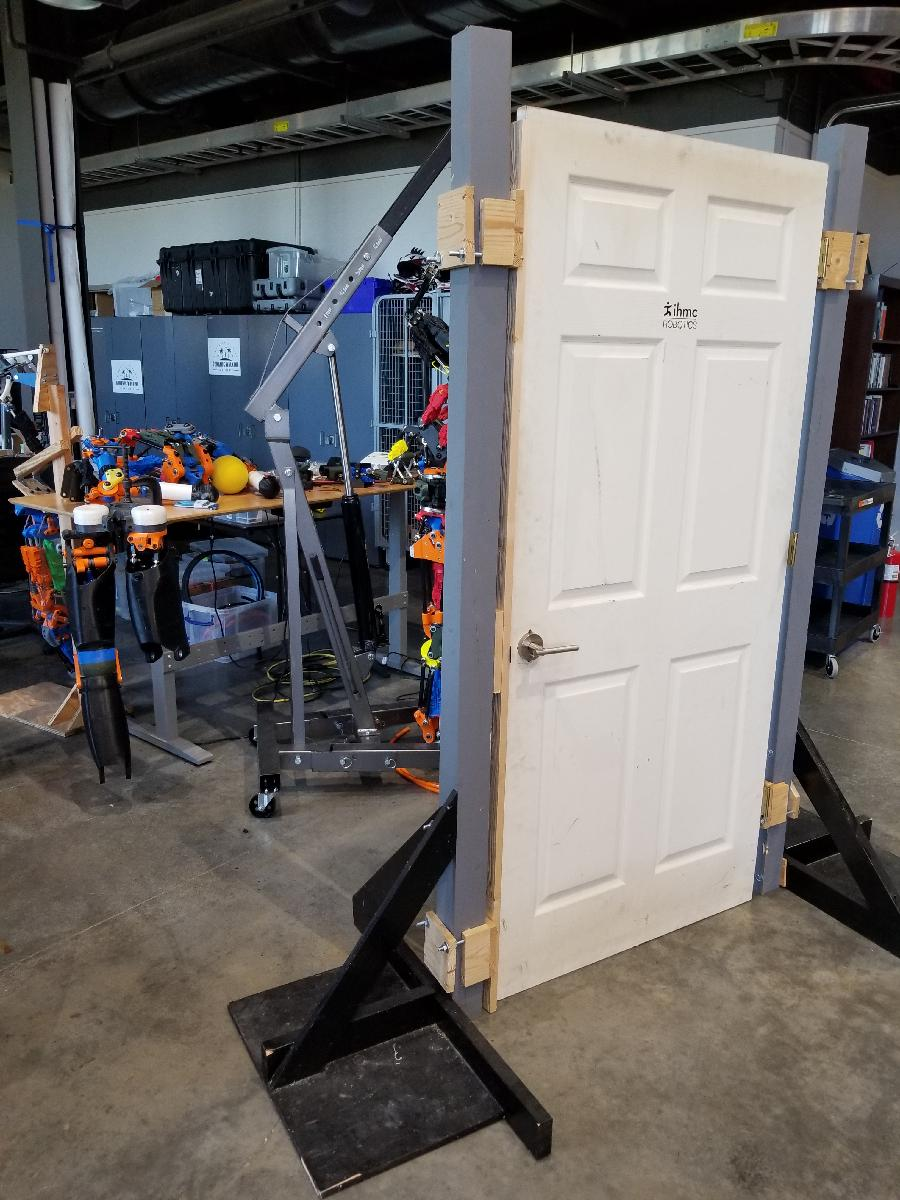door: (485, 104, 835, 1007)
doorHandle: (516, 629, 585, 672)
